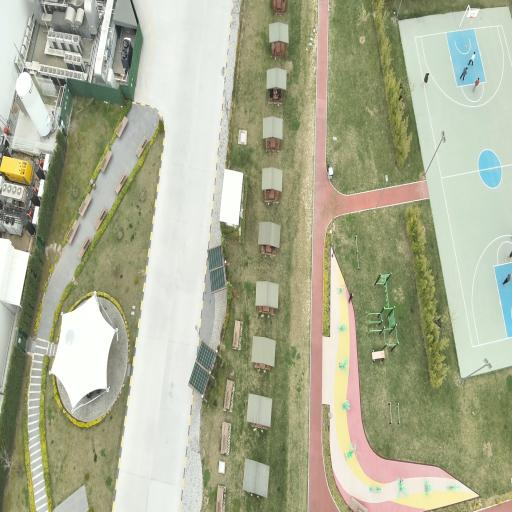person: (422, 73, 430, 86), (460, 67, 467, 81), (468, 52, 475, 65), (503, 274, 511, 285), (473, 78, 479, 91), (505, 252, 511, 262), (349, 293, 354, 302)
